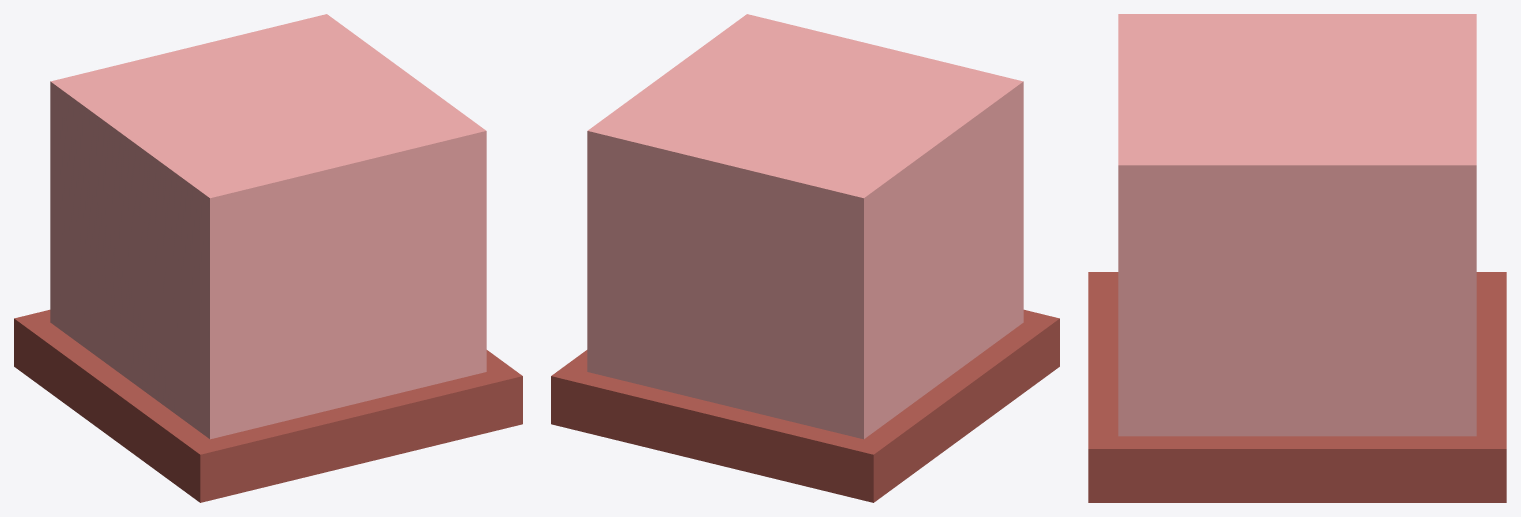
The model's file is light-cube.obj.
The picture shows the model from 3 angles, left to right: view 1: azimuth 30°, elevation 25°; view 2: azimuth 150°, elevation 25°; view 3: azimuth 270°, elevation 25°; orthographic projection. The views are drawn at different scales.
Visible parts, largest first — view 1: glowing-lowpoly-cube, wood-cube-base; view 2: glowing-lowpoly-cube, wood-cube-base; view 3: glowing-lowpoly-cube, wood-cube-base.
Boxes of the visible parts, <box> form: glowing-lowpoly-cube: <box>50,14,486,439</box>; wood-cube-base: <box>14,309,522,502</box>; glowing-lowpoly-cube: <box>587,14,1023,439</box>; wood-cube-base: <box>551,309,1059,502</box>; glowing-lowpoly-cube: <box>1118,14,1476,436</box>; wood-cube-base: <box>1088,272,1506,502</box>.
Size of the model in its own units: 0.84 by 0.72 by 0.84.
